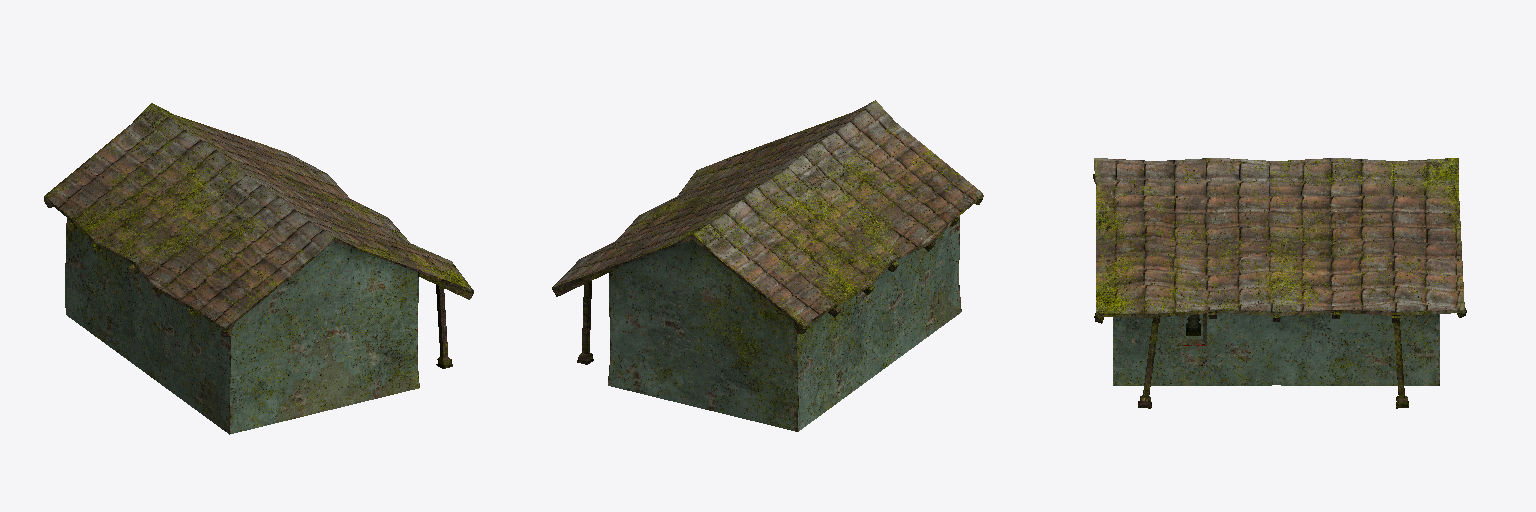
3 views of the same model, side by side, from view 1: azimuth 30°, elevation 25°; view 2: azimuth 150°, elevation 25°; view 3: azimuth 270°, elevation 25° (orthographic).
Parts seen in each view (by area): view 1: obj1; view 2: obj1; view 3: obj1.
Part boxes in pixels (x1,y1,x2,y2): obj1: (44, 103, 473, 434); obj1: (552, 100, 983, 431); obj1: (1093, 158, 1466, 408).
Bounding box in the file's own units: 5.12 × 3.32 × 6.17.
1 materials, 1 textured.